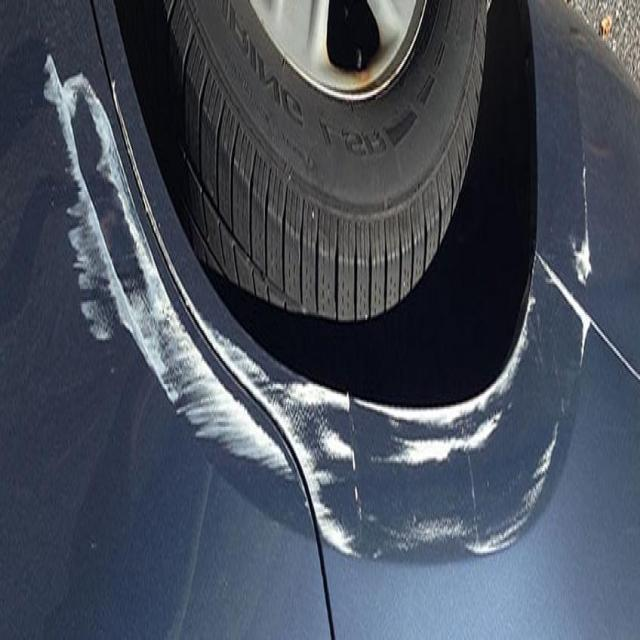scratch: (34, 42, 320, 534), (332, 359, 598, 573), (517, 164, 606, 355)
